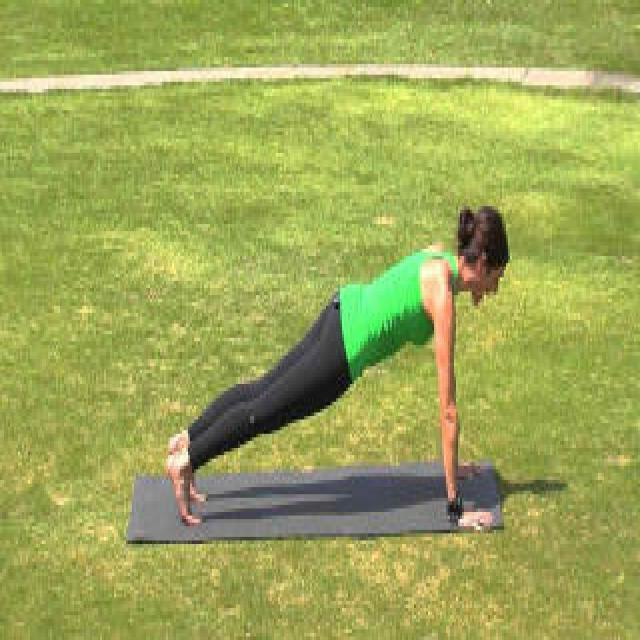yoga-pose plank: (162, 198, 513, 540)
